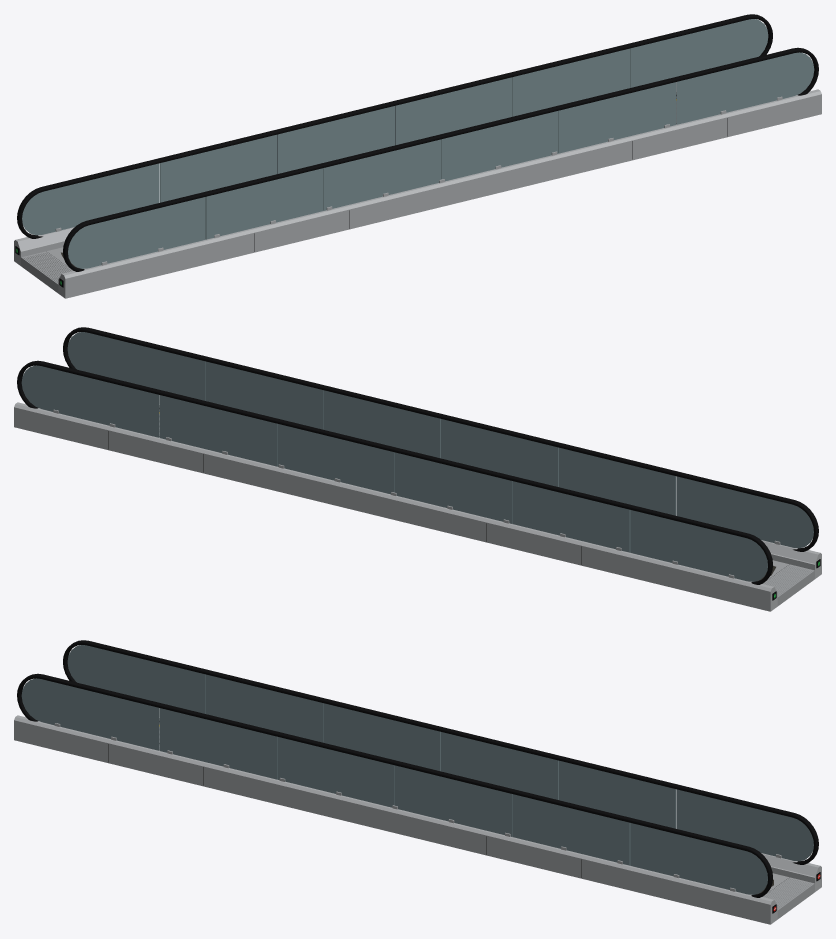
The model's file is travelator.glb.
The picture shows the model from 3 angles, top to bottom: view 1: azimuth 30°, elevation 25°; view 2: azimuth 150°, elevation 25°; view 3: azimuth 330°, elevation 25°; orthographic projection.
Visible parts, largest first — view 1: laufband_6, laufband_4, laufband_5, laufband_0; view 2: laufband_6, laufband_4, laufband_5, laufband_0; view 3: laufband_6, laufband_4, laufband_5, laufband_0.
Boxes of the visible parts, <box> form: laufband_6: <box>22,19,814,268</box>; laufband_4: <box>14,82,821,298</box>; laufband_5: <box>17,14,818,271</box>; laufband_0: <box>21,101,676,293</box>; laufband_6: <box>21,332,813,581</box>; laufband_4: <box>14,395,821,611</box>; laufband_5: <box>17,327,818,584</box>; laufband_0: <box>159,414,814,606</box>; laufband_6: <box>21,645,813,894</box>; laufband_4: <box>14,708,821,924</box>; laufband_5: <box>17,640,818,897</box>; laufband_0: <box>159,727,814,919</box>.
Bounding box in the file's own units: 11.92 × 1.04 × 1.4.
